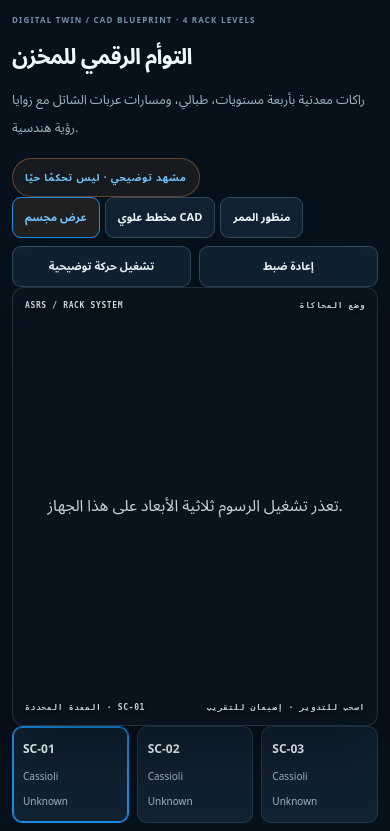
Scenario: ImmersiveWarehouse › renders the Arabic digital-twin controls and clearly labels the scene as illustrative when WebGL is unavailable
expect the heading "التوأم الرقمي للمخزن" is shown: met, box [12,34,192,80]
expect the text "مشهد توضيحي · ليس تحكمًا حيًا" is shown: met, box [12,158,200,197]
Click the button "تشغيل حركة توضيحية" at (102, 266), box [12,246,191,287]
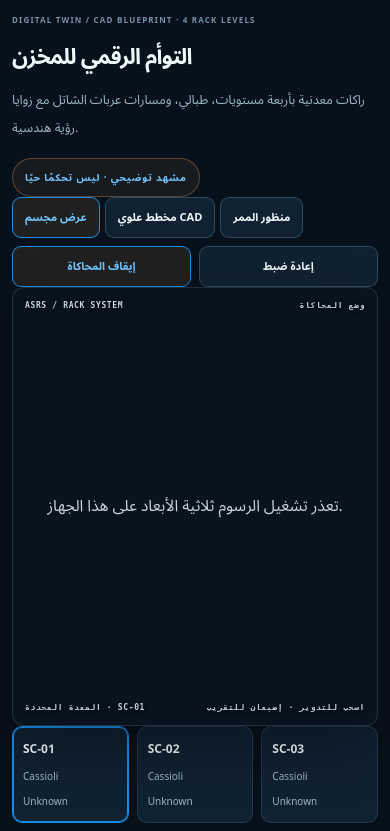
expect the button "إيقاف المحاكاة" is shown: met, box [12,246,191,287]
